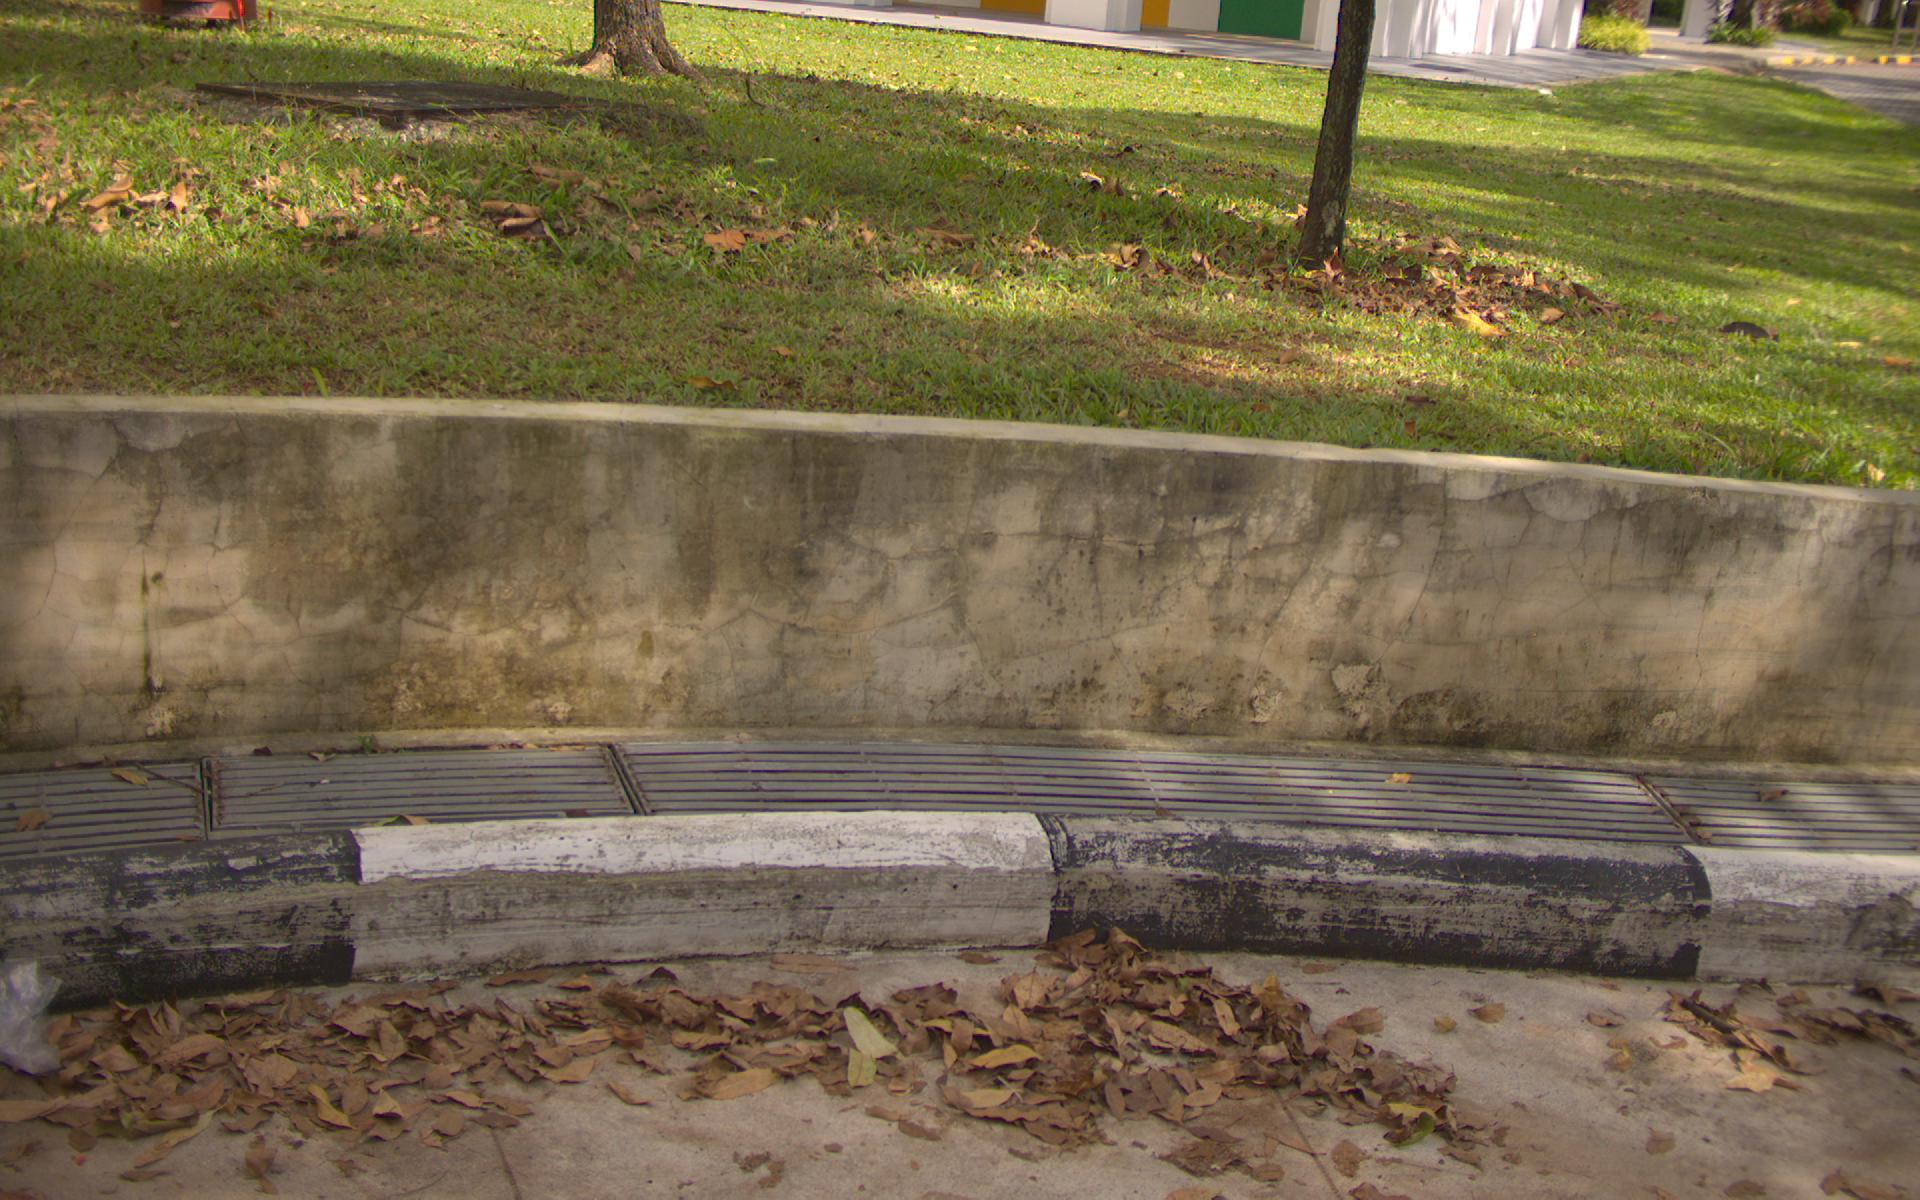curb_dic_low: (1, 765, 1908, 849)
road_curb_medium: (12, 1016, 1902, 1194)
road_turf_low: (1, 147, 1903, 359)
